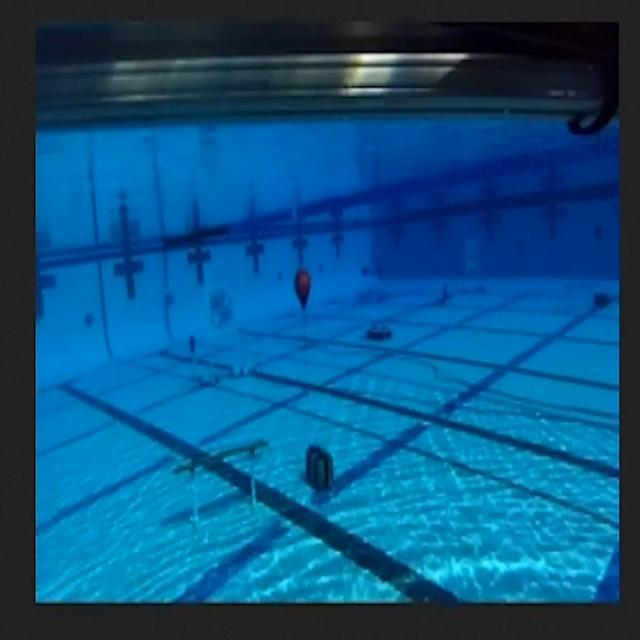Buoy: (291, 254, 314, 316)
